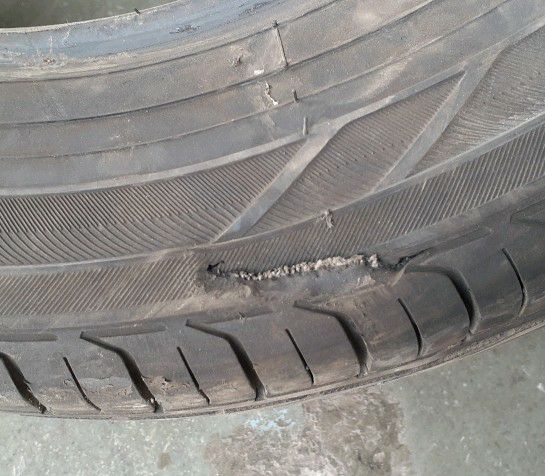cut: (203, 247, 431, 280)
